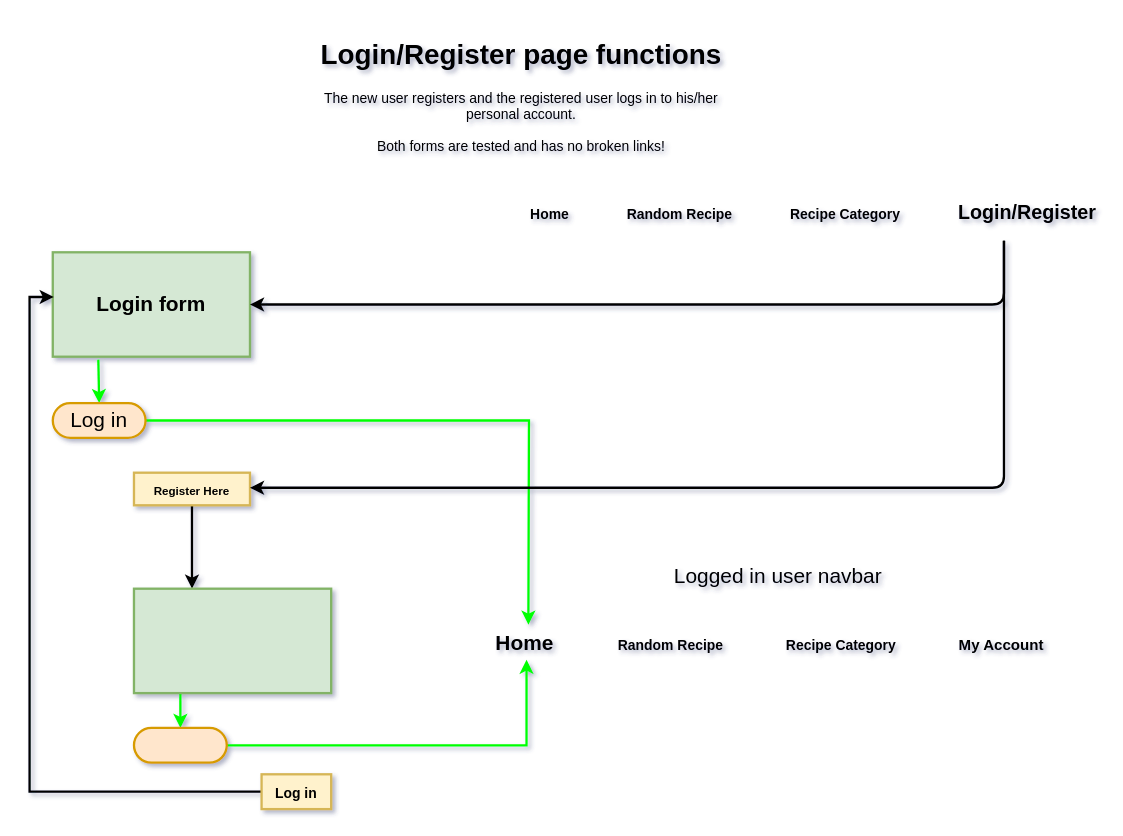
Some shapes in this 1123 by 836 pixel diagram are drawn without their labels. Each missing label, with the centre of its shape:
Register form: the point at 232,640
Submit: the point at 179,744
